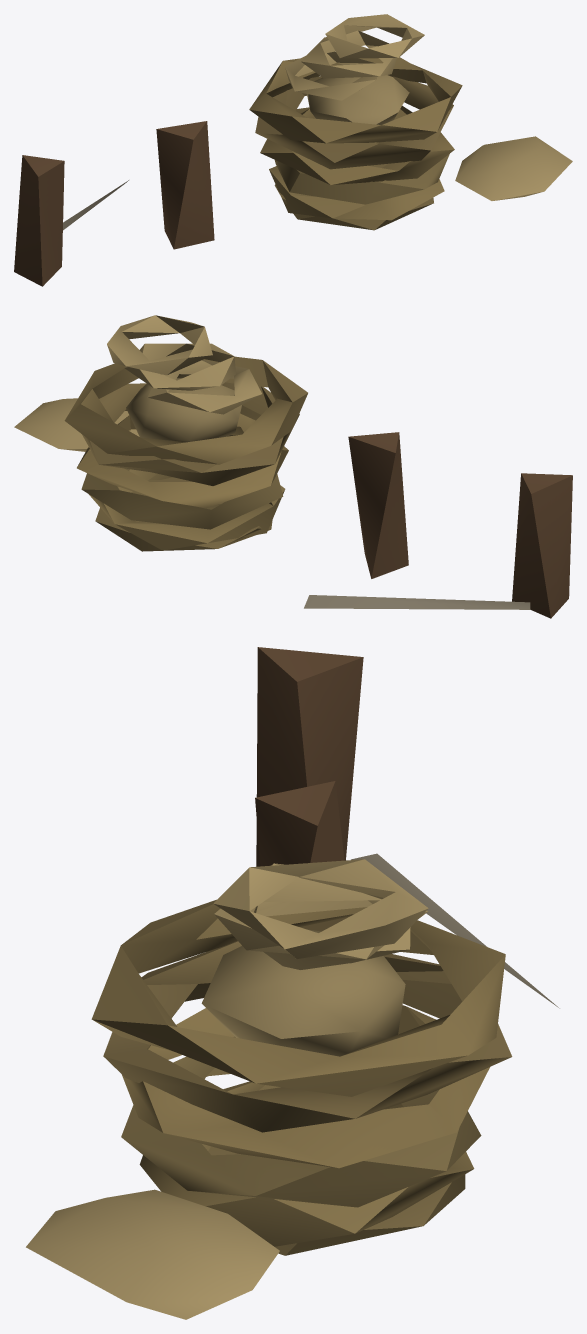
The model's file is knot_board_c_lod2.glb.
The picture shows the model from 3 angles, top to bottom: view 1: azimuth 30°, elevation 25°; view 2: azimuth 150°, elevation 25°; view 3: azimuth 270°, elevation 25°; orthographic projection. The views are drawn at different scales.
Parts seen in each view (by area): view 1: Surface.001; view 2: Surface.001; view 3: Surface.001.
Boxes of the visible parts, x1,y1,x2,y2 form: Surface.001: [14, 14, 572, 286]; Surface.001: [14, 315, 572, 618]; Surface.001: [26, 647, 559, 1319].
Size of the model in its own units: 3.85 by 1.16 by 1.76.
